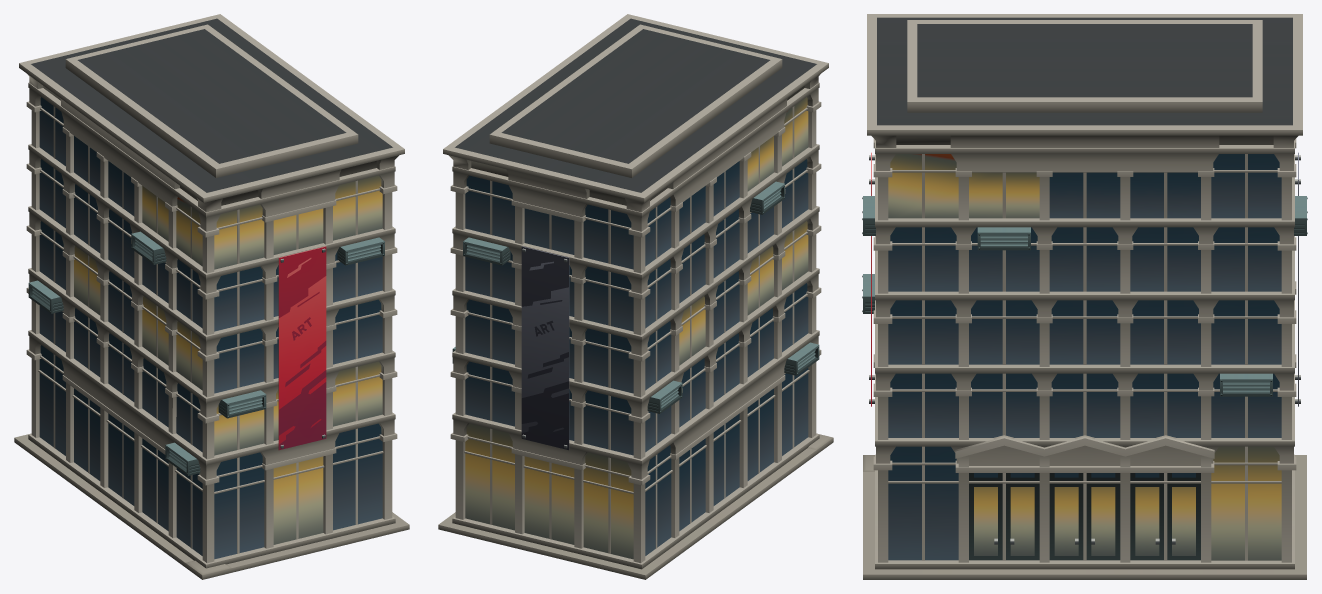
Rendered from Building_11B.fbx.
The picture shows the model from 3 angles, left to right: view 1: azimuth 30°, elevation 25°; view 2: azimuth 150°, elevation 25°; view 3: azimuth 270°, elevation 25°; orthographic projection. The views are drawn at different scales.
Visible parts, largest first — view 1: Building_11B, Window_Lights_11B, Branding_11B, Air_Conditioner_11B; view 2: Building_11B, Window_Lights_11B, Branding_11B, Air_Conditioner_11B; view 3: Building_11B, Window_Lights_11B, Air_Conditioner_11B, Branding_11B.
Part boxes in pixels (left/top/right/bottom): Building_11B: left=14, top=14, right=409, bottom=579; Window_Lights_11B: left=74, top=175, right=382, bottom=544; Branding_11B: left=278, top=246, right=326, bottom=450; Air_Conditioner_11B: left=28, top=231, right=384, bottom=475; Building_11B: left=438, top=14, right=833, bottom=579; Window_Lights_11B: left=465, top=97, right=808, bottom=559; Branding_11B: left=521, top=246, right=569, bottom=450; Air_Conditioner_11B: left=452, top=181, right=819, bottom=413; Building_11B: left=863, top=14, right=1306, bottom=579; Window_Lights_11B: left=888, top=154, right=1281, bottom=560; Air_Conditioner_11B: left=862, top=196, right=1307, bottom=396; Branding_11B: left=869, top=152, right=1300, bottom=406.
Bounding box in the file's own units: 14.08 × 25.13 × 22.08.
